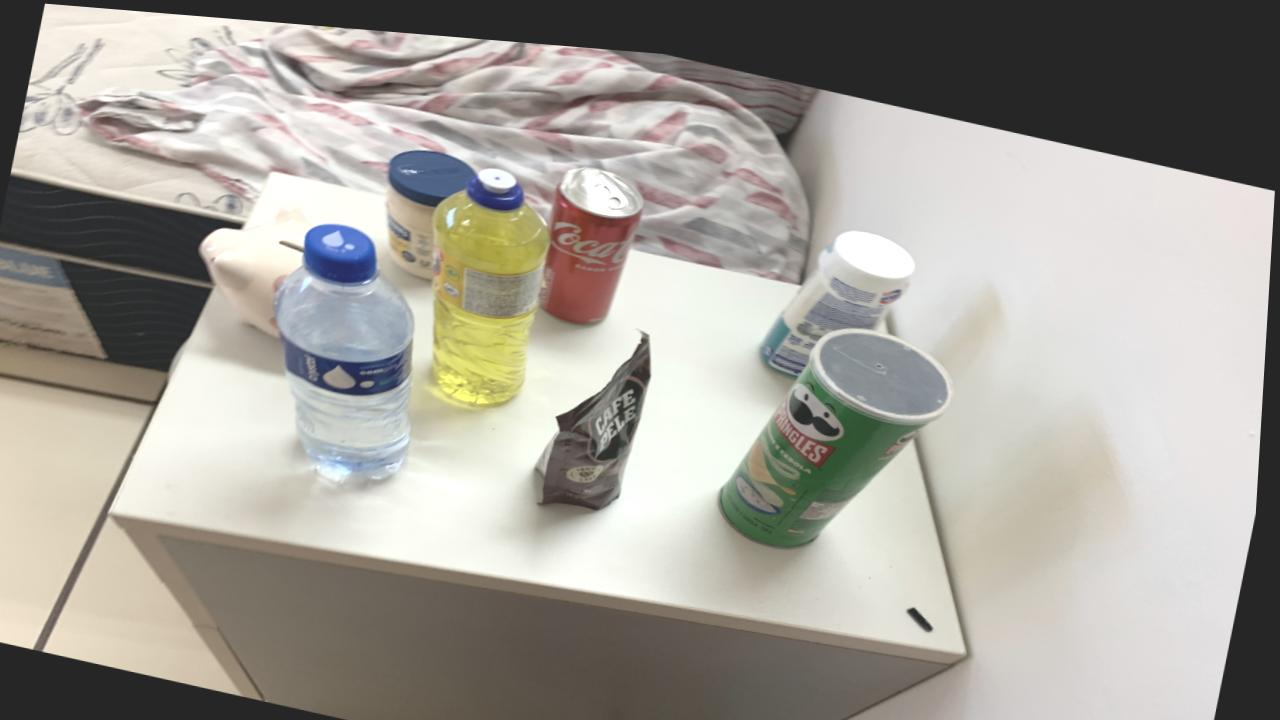Cleaner-Cleanup_Items: (763, 215, 917, 362)
Coffee-Pantry_Items: (541, 322, 655, 498)
Coke-Drinks: (542, 156, 645, 313)
Detergent-Cleanup_Items: (434, 159, 552, 396)
Mayonnaise-Pantry_Items: (386, 142, 476, 272)
Pig_Safe-Miscellaneous: (201, 196, 313, 332)
Pringles-Snacks: (724, 312, 956, 534)
Water_Bottle-Drinks: (277, 217, 417, 473)
